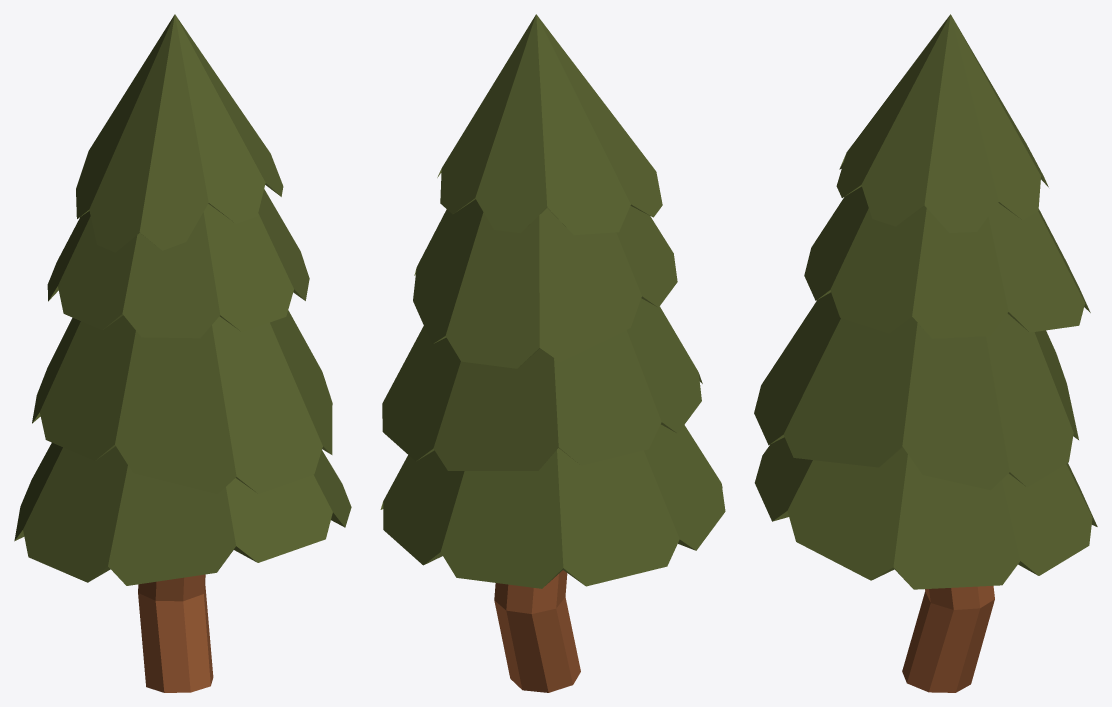
The model's file is env-tree1.fbx.
The picture shows the model from 3 angles, left to right: view 1: azimuth 30°, elevation 25°; view 2: azimuth 150°, elevation 25°; view 3: azimuth 270°, elevation 25°; orthographic projection.
Parts seen in each view (by area): view 1: ref_agac.004; view 2: ref_agac.004; view 3: ref_agac.004.
Boxes of the visible parts, x1=… form: ref_agac.004: x1=14, y1=14, x2=351, y2=692; ref_agac.004: x1=380, y1=14, x2=725, y2=692; ref_agac.004: x1=754, y1=14, x2=1097, y2=692.
Bounding box in the file's own units: 267 × 571 × 266.
